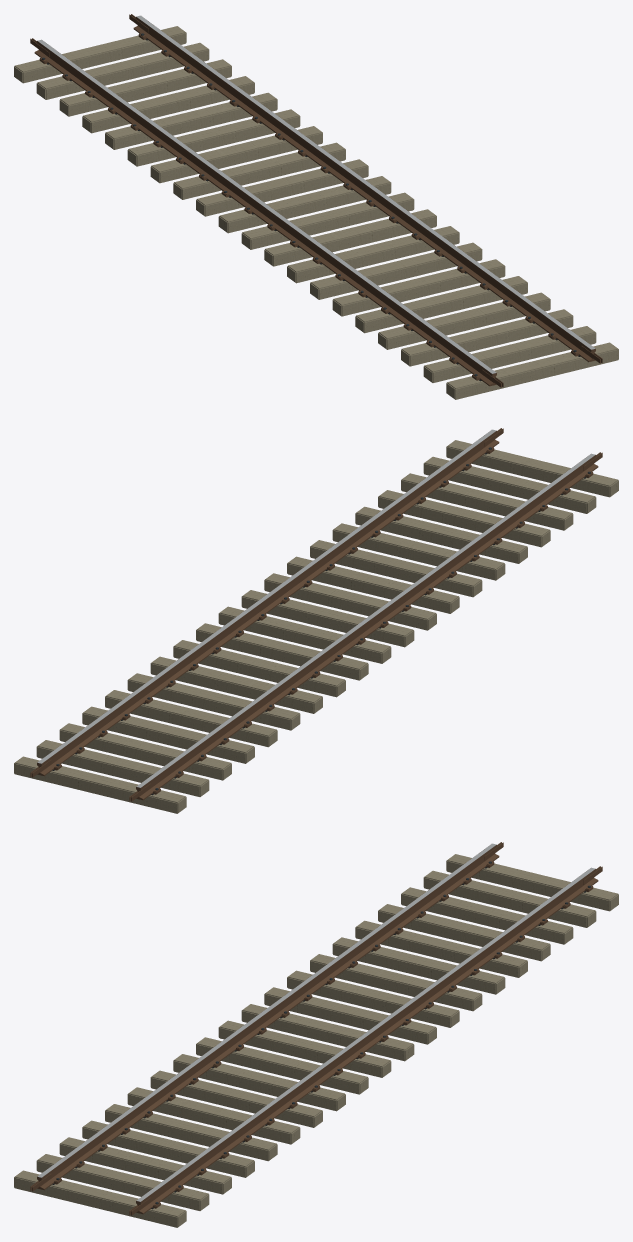
Rendered from DepotTrackSegment12m.fbx.
3 renders of one model, top to bottom at view 1: azimuth 30°, elevation 25°; view 2: azimuth 150°, elevation 25°; view 3: azimuth 330°, elevation 25°, orthographic.
Parts seen in each view (by area): view 1: DepotTrackSegment12m; view 2: DepotTrackSegment12m; view 3: DepotTrackSegment12m.
Boxes of the visible parts, left/top/right/bottom form: DepotTrackSegment12m: left=14, top=14, right=618, bottom=399; DepotTrackSegment12m: left=14, top=428, right=618, bottom=813; DepotTrackSegment12m: left=14, top=842, right=618, bottom=1227.
Size of the model in its own units: 250 by 35.04 by 1242.
